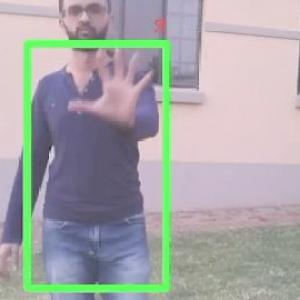follow_hand: (66, 40, 158, 130)
